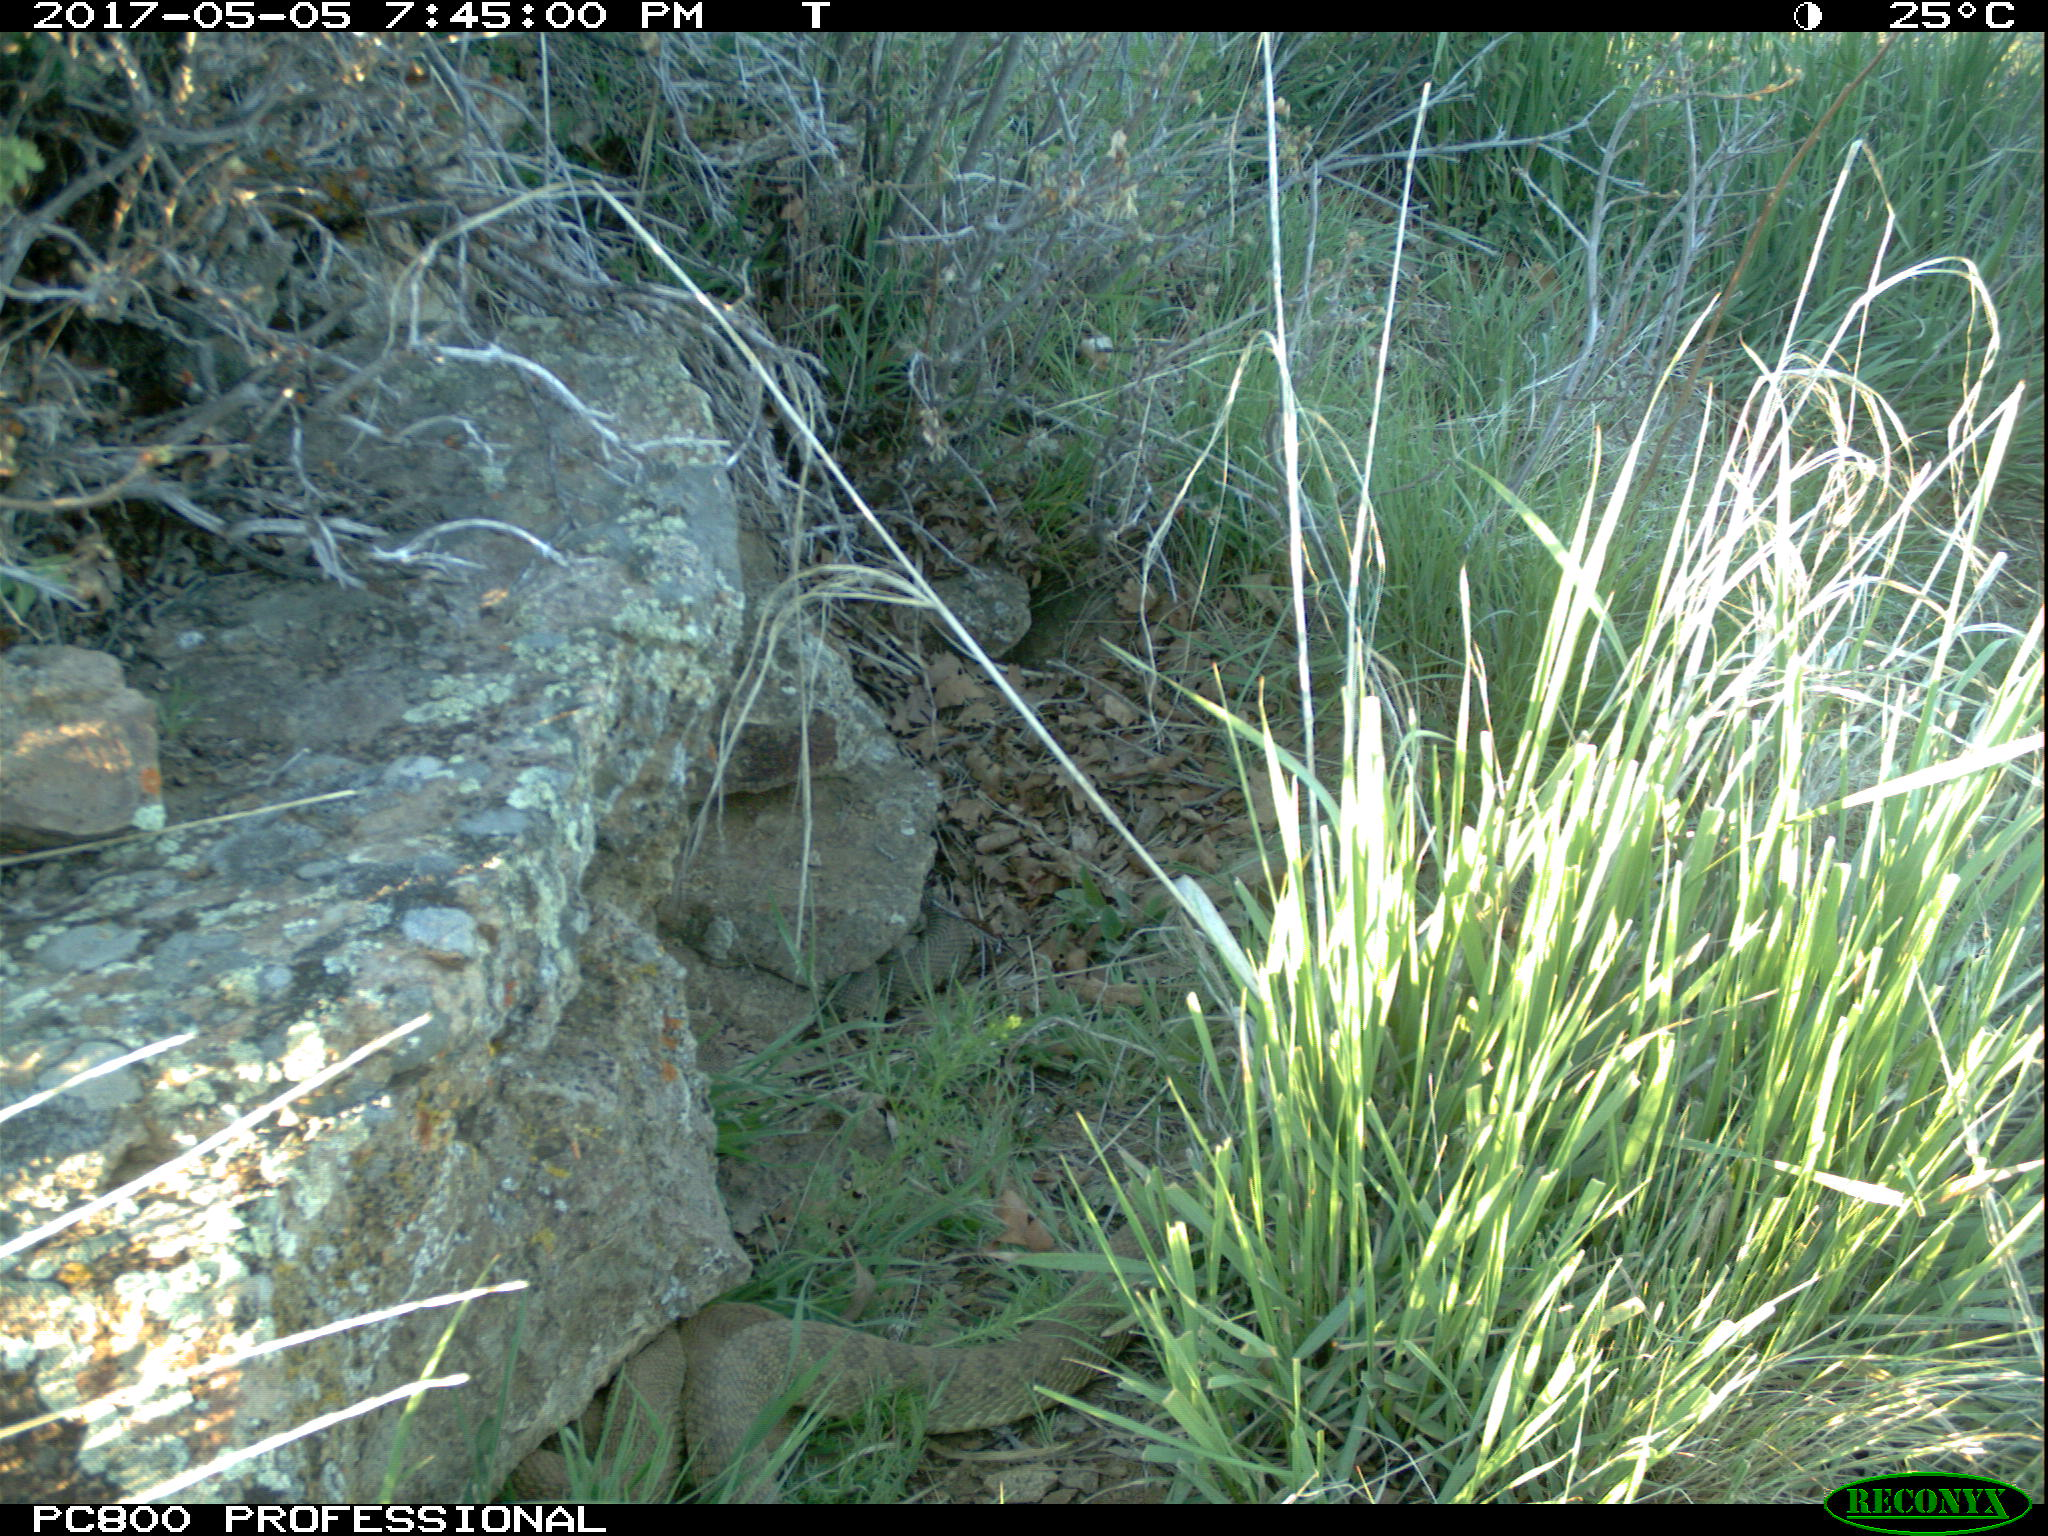snake: (713, 1300, 1150, 1439), (535, 1318, 758, 1504), (840, 904, 989, 1012)
